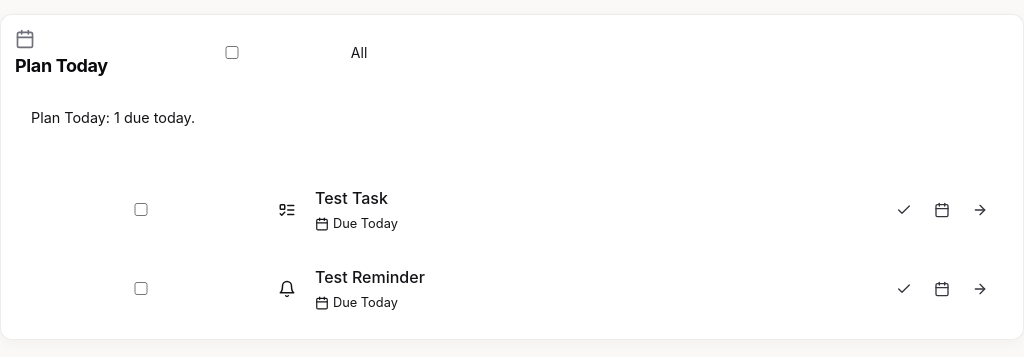
it: PlanTodayPanel › selects all completable items when Select All is clicked
Step 1. Click the checkbox named "Select all" → (232, 53), box [122,46,342,59]
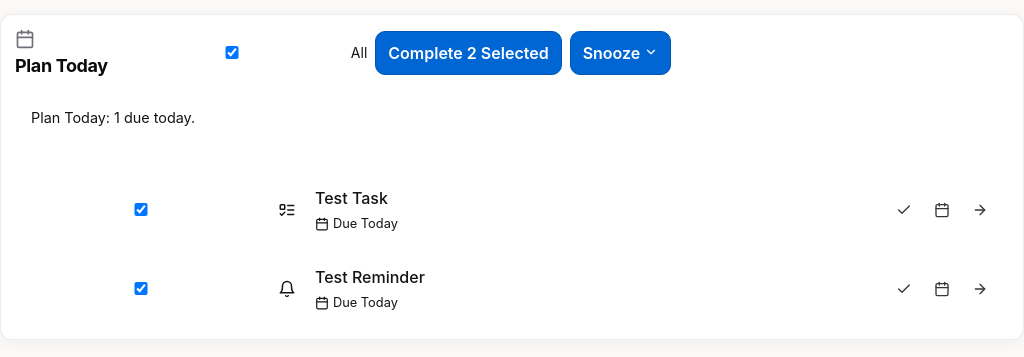
Expected: the checkbox named "Select item:" is checked, [31,203,251,216]
